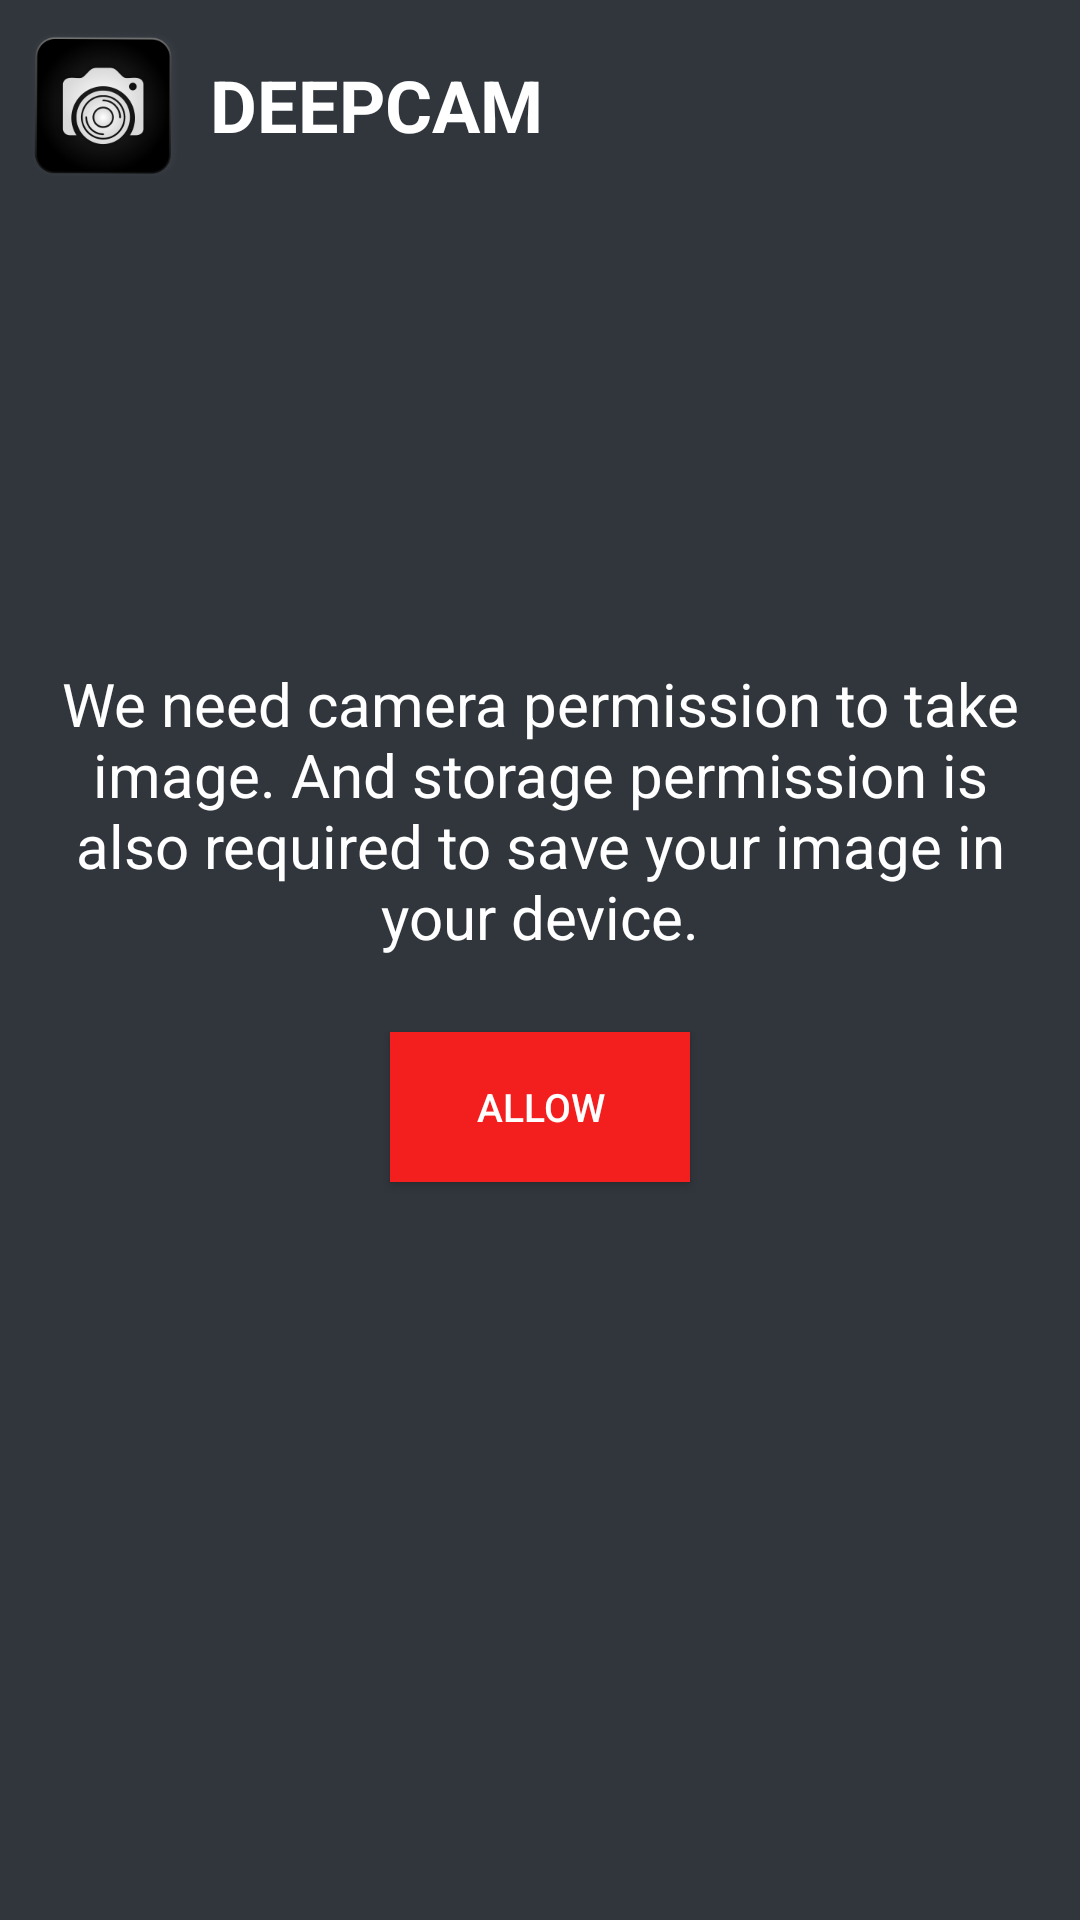

Screen size 1080*1920. Icon name, then its box in pixels as (x1, y1, x2, y2):
appicon: (35, 37, 171, 174)
